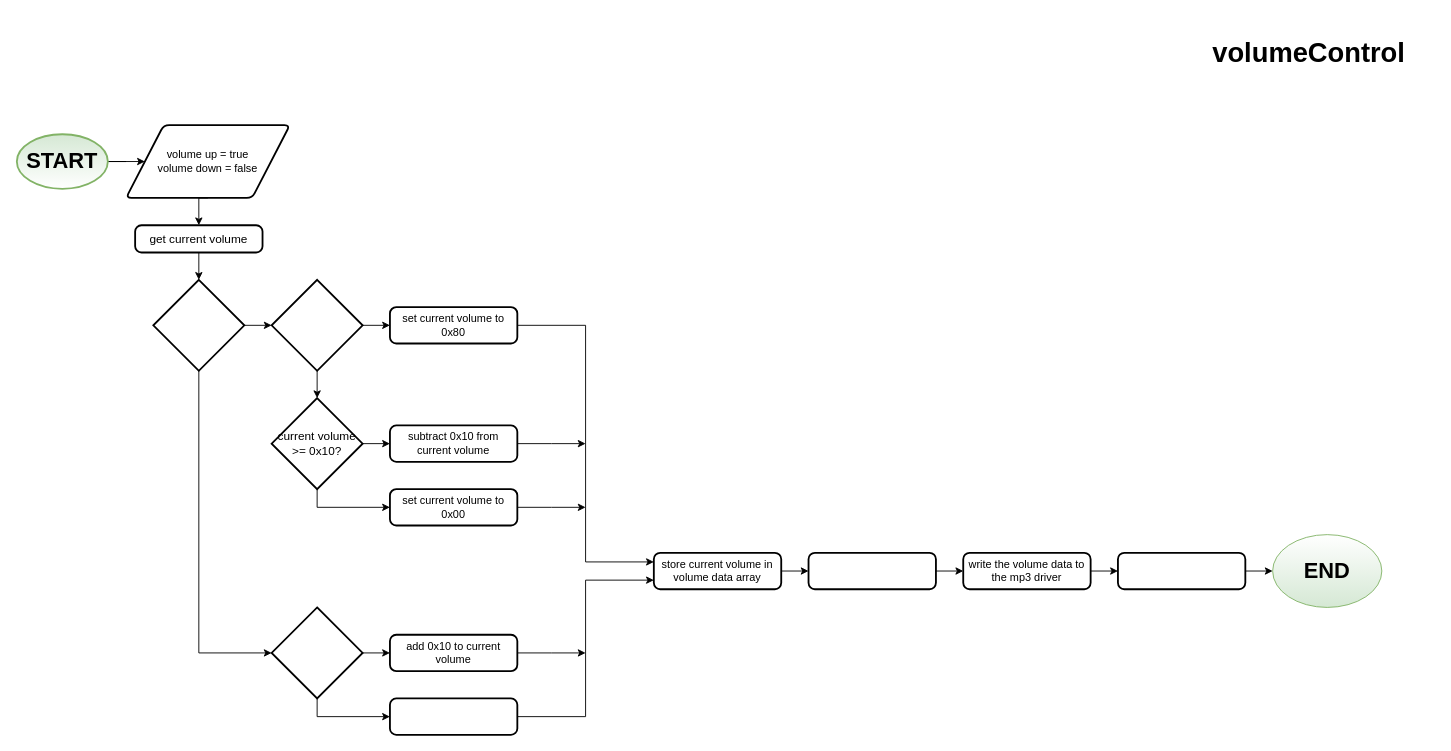
This 1451x751 diagram has some shape labels left out. Each missing label, with the box of its shape:
current volume < 0x80?: (270, 606, 363, 699)
current volume = FE?: (270, 278, 363, 371)
place mp3 driver in command mode: (807, 551, 936, 590)
place mp3 driver in data mode: (1117, 551, 1246, 590)
set current volume to 0xFE: (389, 697, 518, 735)
volume up?: (152, 278, 245, 371)
